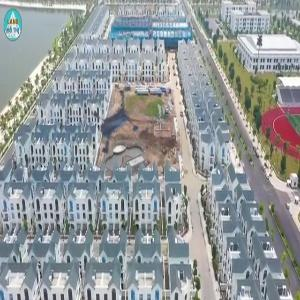drone: (80, 97, 154, 171)
